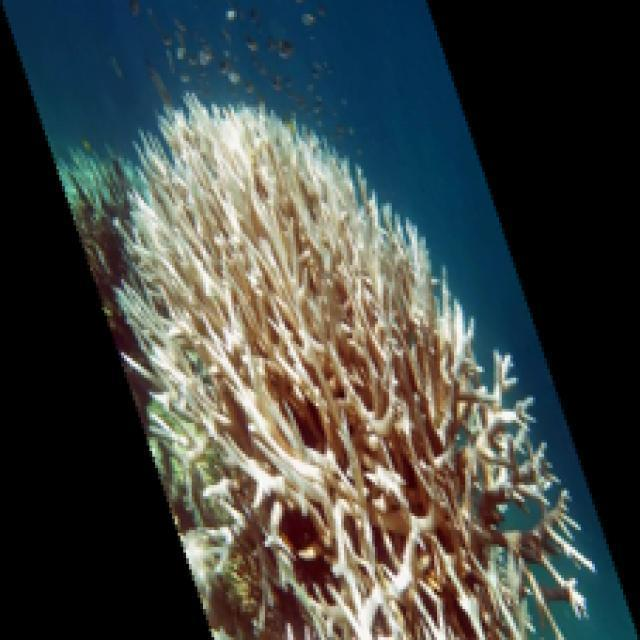Bleached: (115, 93, 599, 640)
